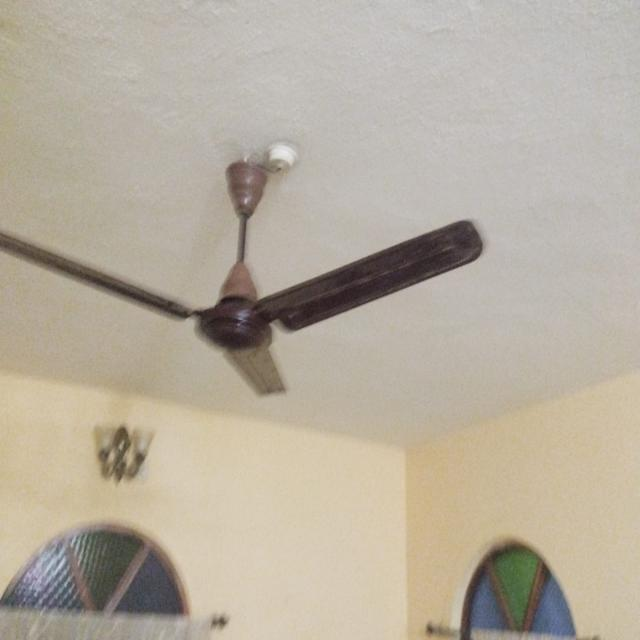fan_off: (4, 160, 488, 402)
